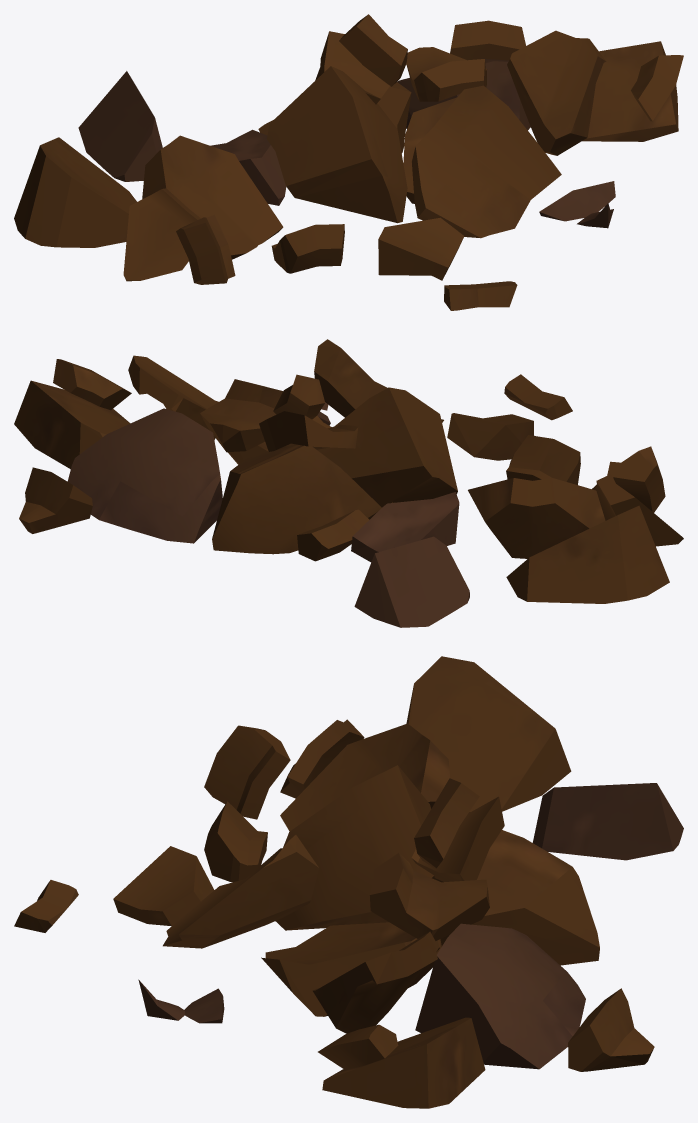
File: Vase_Rubble_Medium.gltf
3 views of the same model, one above another, from view 1: azimuth 30°, elevation 25°; view 2: azimuth 150°, elevation 25°; view 3: azimuth 270°, elevation 25° (orthographic). The views are drawn at different scales.
Parts seen in each view (by area): view 1: Vase_Rubble_Medium; view 2: Vase_Rubble_Medium; view 3: Vase_Rubble_Medium.
Part boxes in pixels (x1,y1,x2,y2): Vase_Rubble_Medium: [14, 14, 683, 310]; Vase_Rubble_Medium: [14, 339, 683, 627]; Vase_Rubble_Medium: [14, 656, 683, 1108].
Size of the model in its own units: 0.7969 by 0.1746 by 0.5984.
1 material, 1 textured.
